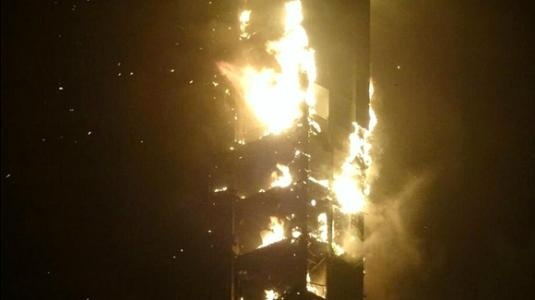fire: (232, 0, 318, 135), (335, 78, 381, 213)
